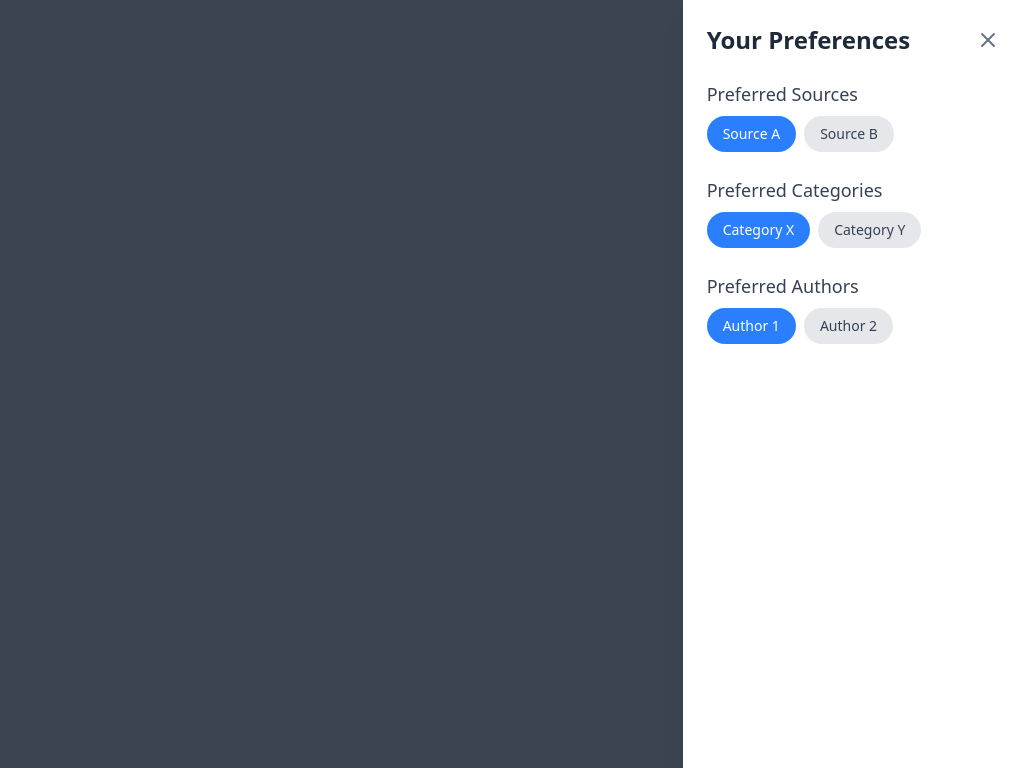
Test: PreferencesPanel › allows selecting and saving preferences
This screenshot has width=1024, height=768.
Click the button "Source B". click: point(849, 134)
box: [804,116,894,152]
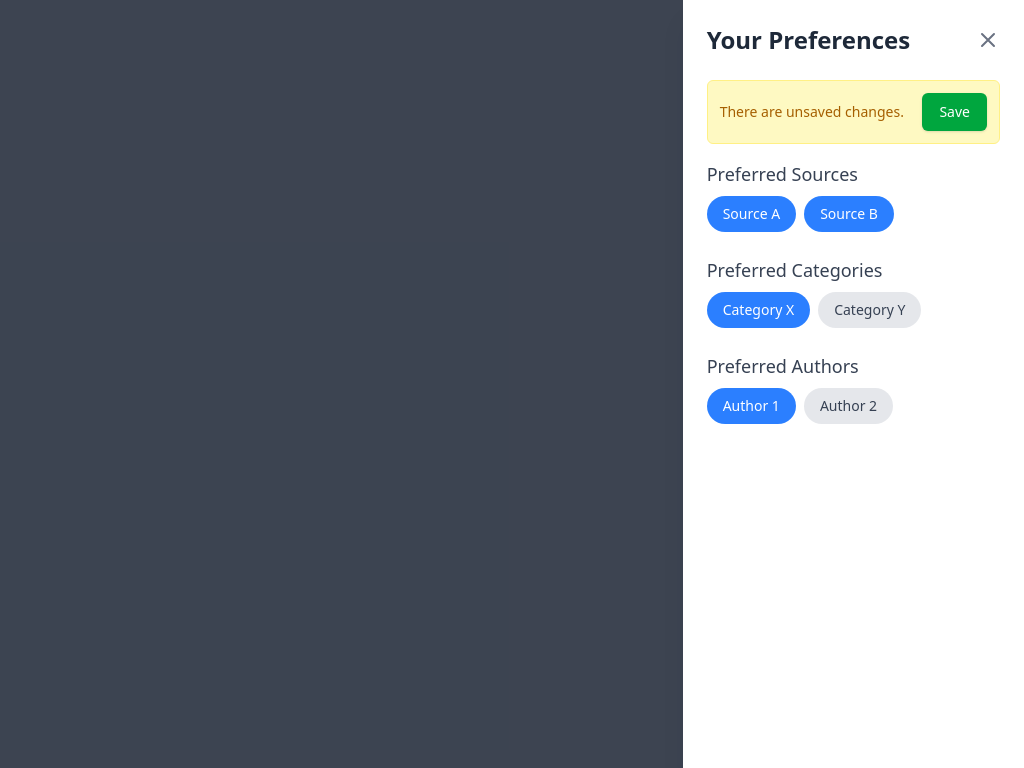
Result: the button "Save" is shown
Click the button "Save". click: point(955, 112)
box: [922,93,987,131]
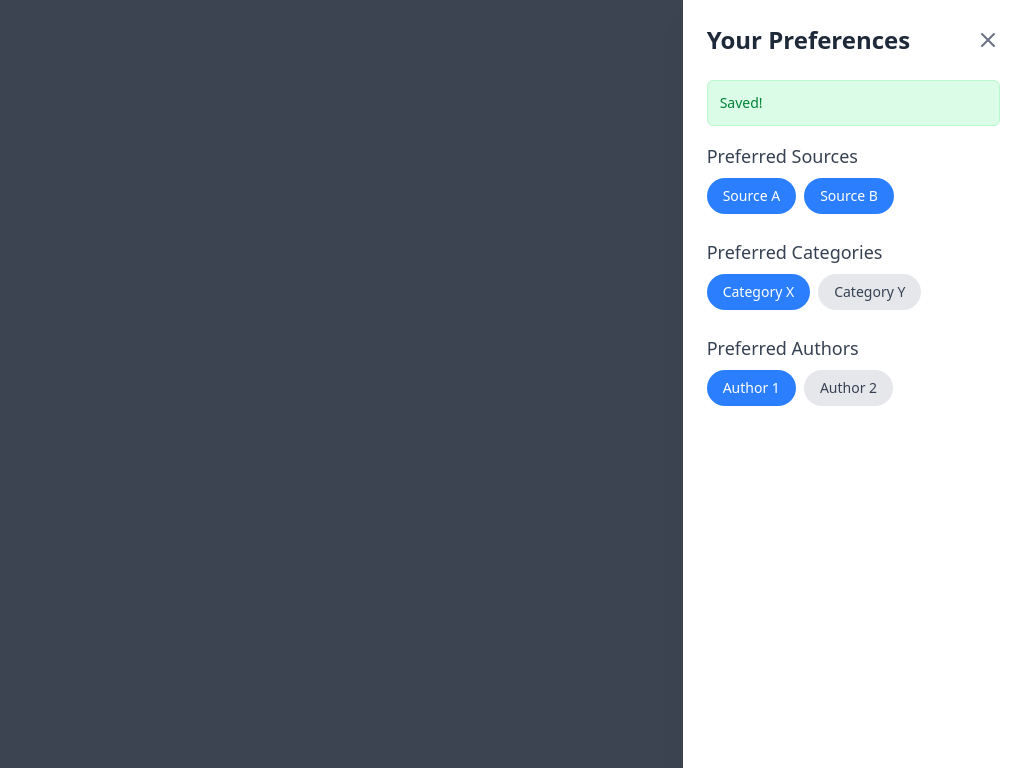
Result: the text "Saved!" is shown at [720,93,763,113]
